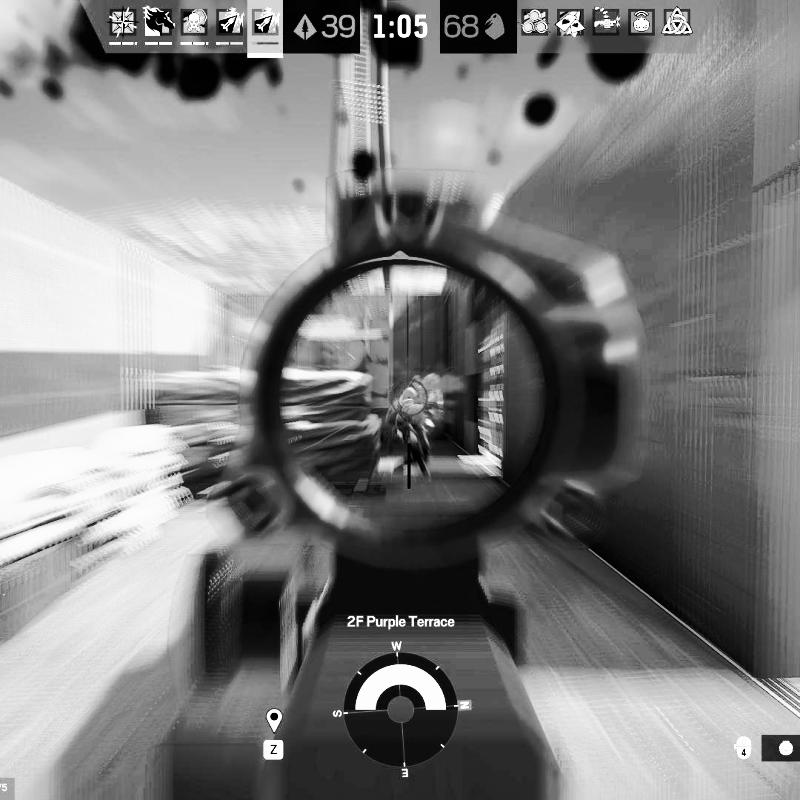Character: (383, 372, 446, 485)
Head: (423, 373, 442, 395)
